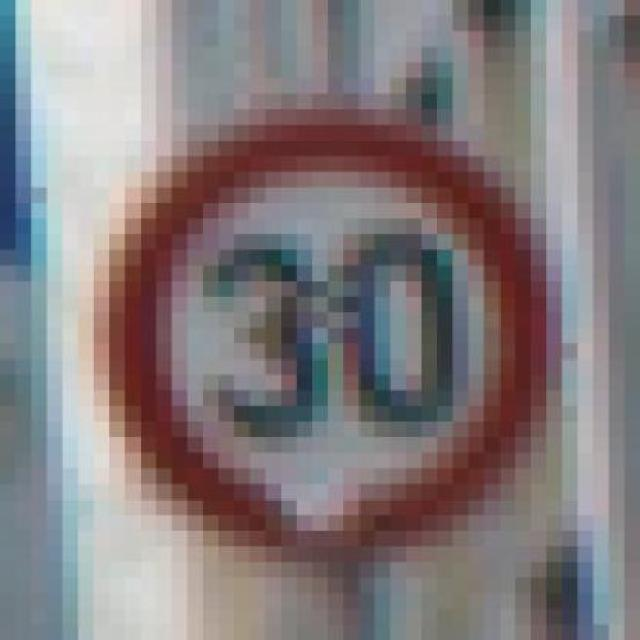Speed Limit 30 KMPh: (47, 62, 578, 593)
